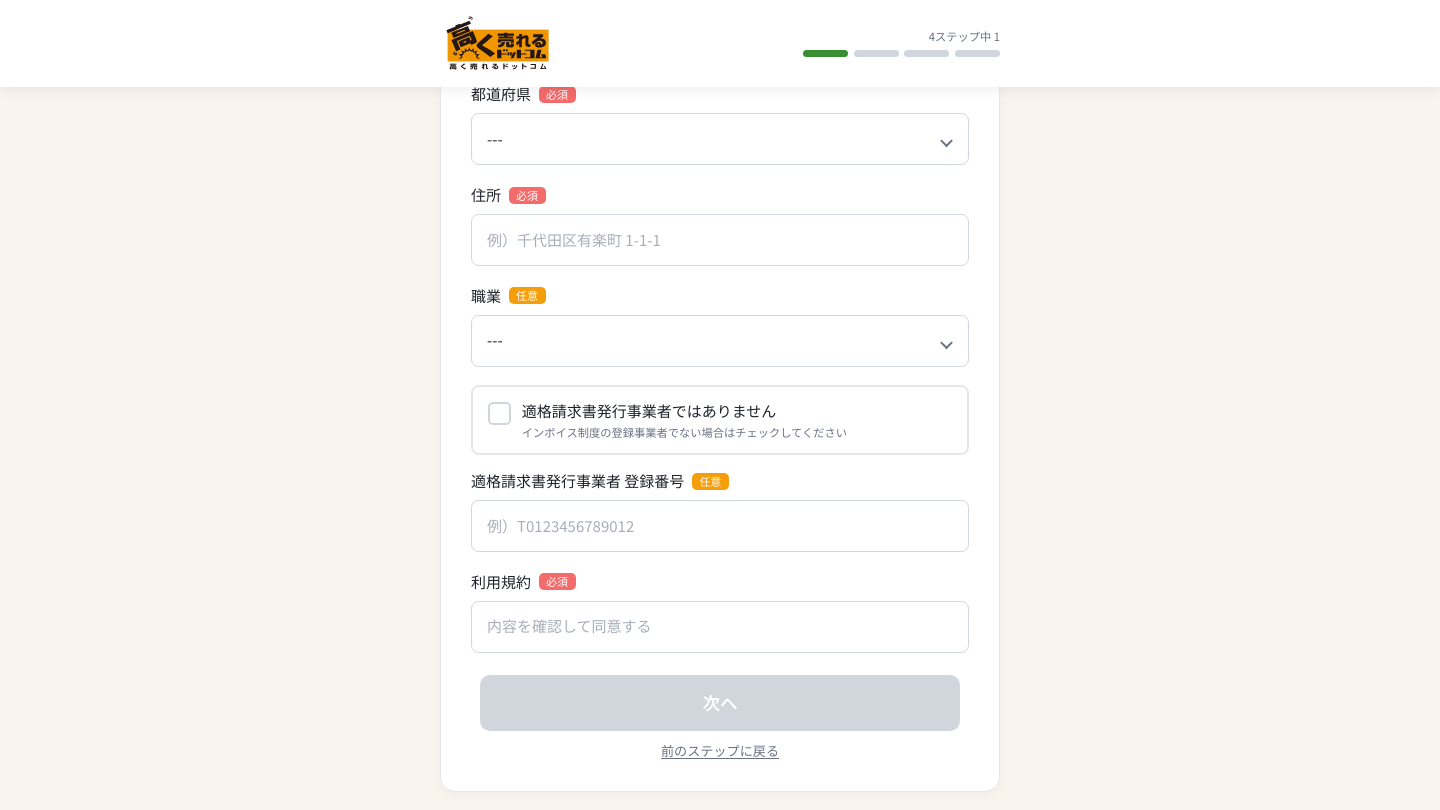
Test case: Step1PersonalInfo — inline terms field (showTermsField) › opens the terms modal when the field row is tapped
This screenshot has width=1440, height=810.
(page scrolled)
Click the button "内容を確認して同意する" at {"x": 569, "y": 626}, box [471, 601, 969, 653]
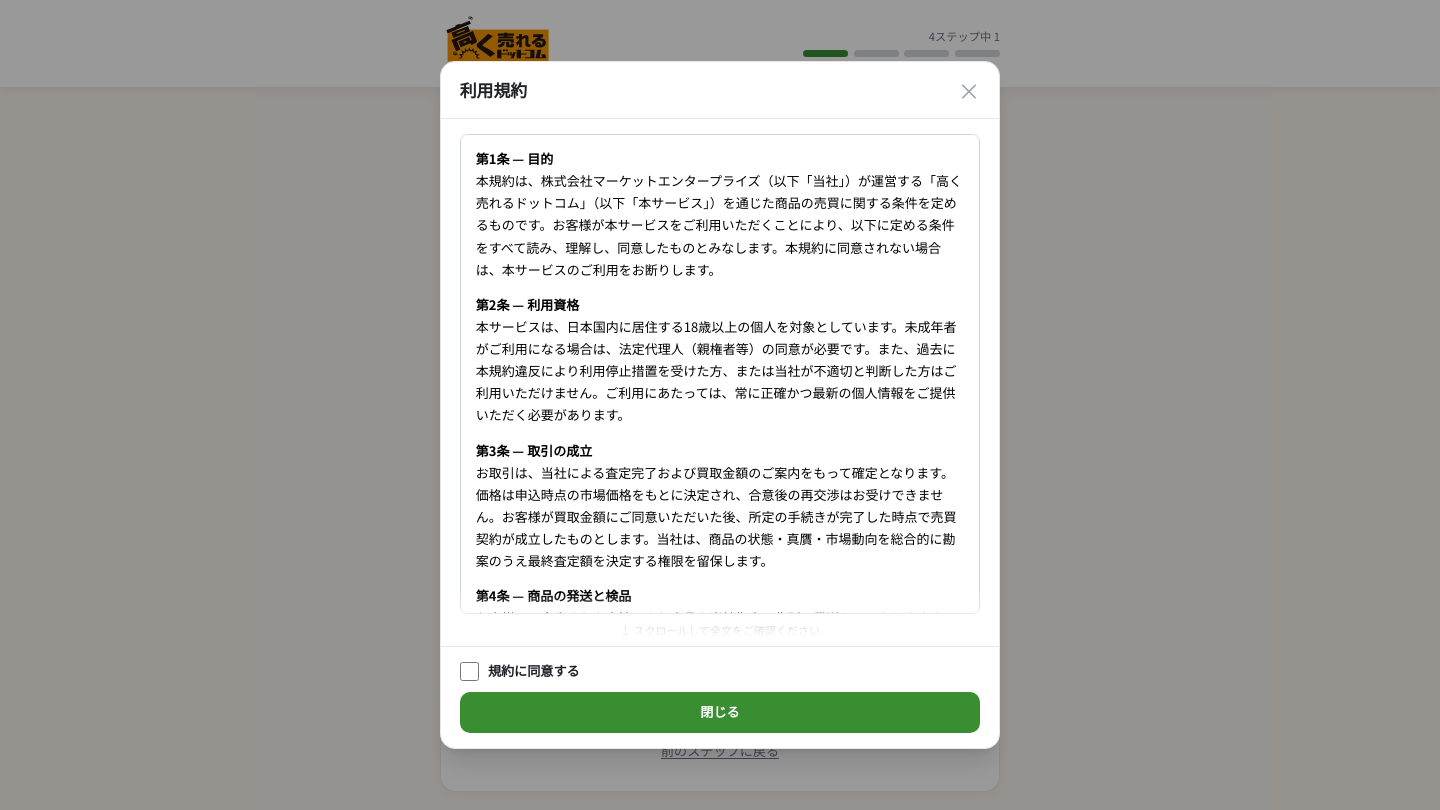
Result: the heading "利用規約" is shown at [460, 77, 527, 103]
